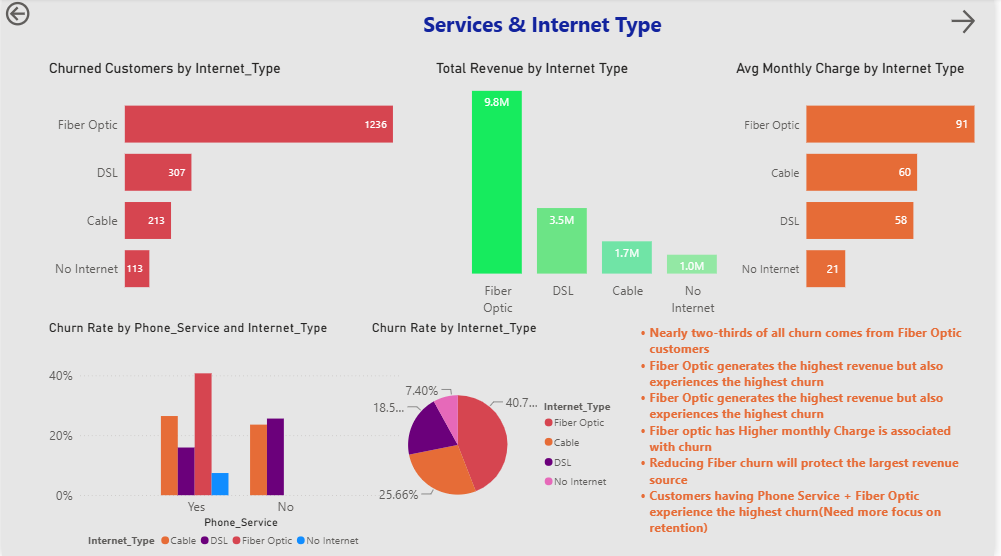

Layout of this report page (visuals, bound fields, positions):
{"tool":"powerbi","page":{"name":"Services & Internet Type","canvas":[1280,720],"ordinal":3},"visuals":[{"type":"barChart","fields":{"Y":["telecom_db telecome_churn.Churned Customers"],"Category":["telecom_db telecome_churn.Internet_Type"]},"box":[54.9,79.5,499.9,325.1],"z":0},{"type":"columnChart","title":" Total Revenue by Internet Type","fields":{"Category":["telecom_db telecome_churn.Internet_Type"],"Y":["Sum(telecom_db telecome_churn.Total_Revenue)"]},"box":[554.8,79.5,408.8,336.6],"z":1000},{"type":"clusteredColumnChart","fields":{"Category":["telecom_db telecome_churn.Phone_Service"],"Series":["telecom_db telecome_churn.Internet_Type"],"Y":["telecom_db telecome_churn.Churn Rate"]},"box":[54.9,416.1,465.2,303.4],"z":2000},{"type":"pieChart","fields":{"Y":["telecom_db telecome_churn.Churn Rate"],"Category":["telecom_db telecome_churn.Internet_Type"]},"box":[472.4,416.1,333.7,303.4],"z":3000},{"type":"textbox","box":[530.2,10.1,333.7,53.5],"z":4000},{"type":"textbox","box":[806.1,416.1,450.7,303.4],"z":5000},{"type":"barChart","title":"Avg Monthly Charge by Internet Type","fields":{"Category":["telecom_db telecome_churn.Internet_Type"],"Y":["Avg(telecom_db telecome_churn.Monthly_Charge)"]},"box":[941.9,79.5,338.1,325.1],"z":6000},{"type":"actionButton","box":[1219.3,10.1,47.7,40.5],"z":7000},{"type":"actionButton","box":[0,0,54.9,40.5],"z":8000}]}

Visuals, with their boxes in screenshot pixels (x1, y1, x2, y2), scaled from the page's 1280x720 canvas onto the 1001x556 screenshot:
barChart - telecom_db telecome_churn.Churned Customers x telecom_db telecome_churn.Internet_Type: (x1=43, y1=61, x2=434, y2=312)
" Total Revenue by Internet Type" columnChart: (x1=434, y1=61, x2=754, y2=321)
clusteredColumnChart - telecom_db telecome_churn.Phone_Service x telecom_db telecome_churn.Internet_Type: (x1=43, y1=321, x2=407, y2=555)
pieChart - telecom_db telecome_churn.Churn Rate x telecom_db telecome_churn.Internet_Type: (x1=369, y1=321, x2=630, y2=555)
textbox: (x1=415, y1=8, x2=676, y2=49)
textbox: (x1=630, y1=321, x2=983, y2=555)
"Avg Monthly Charge by Internet Type" barChart: (x1=737, y1=61, x2=1000, y2=312)
actionButton: (x1=954, y1=8, x2=991, y2=39)
actionButton: (x1=0, y1=0, x2=43, y2=31)
